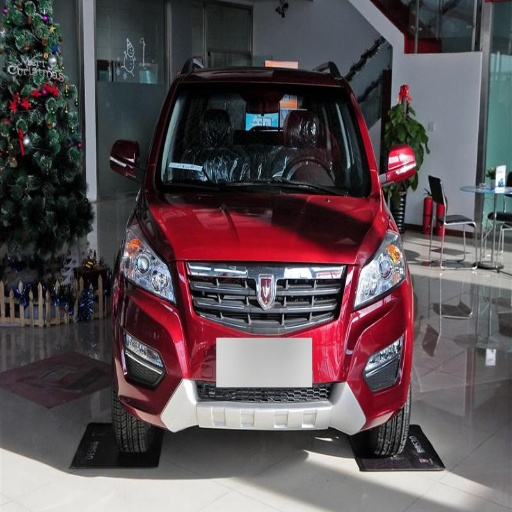front_bumper: (117, 261, 409, 436)
front_right_light: (121, 222, 175, 304)
hood: (142, 184, 387, 265)
